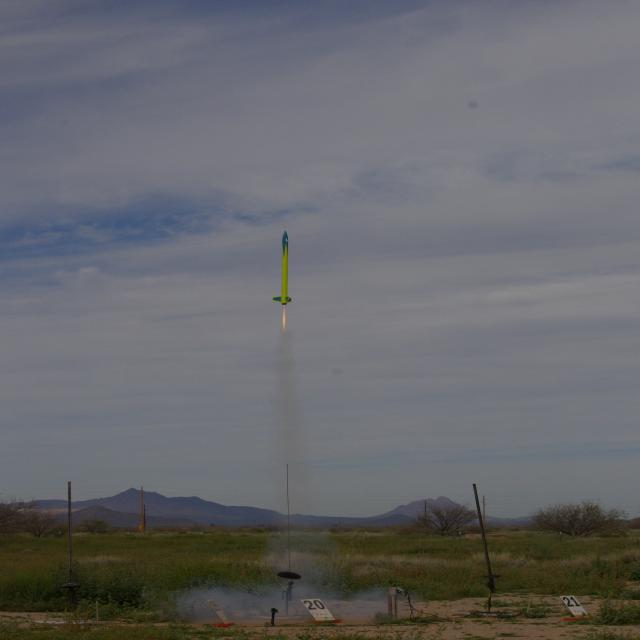Rocket: (272, 229, 294, 306)
